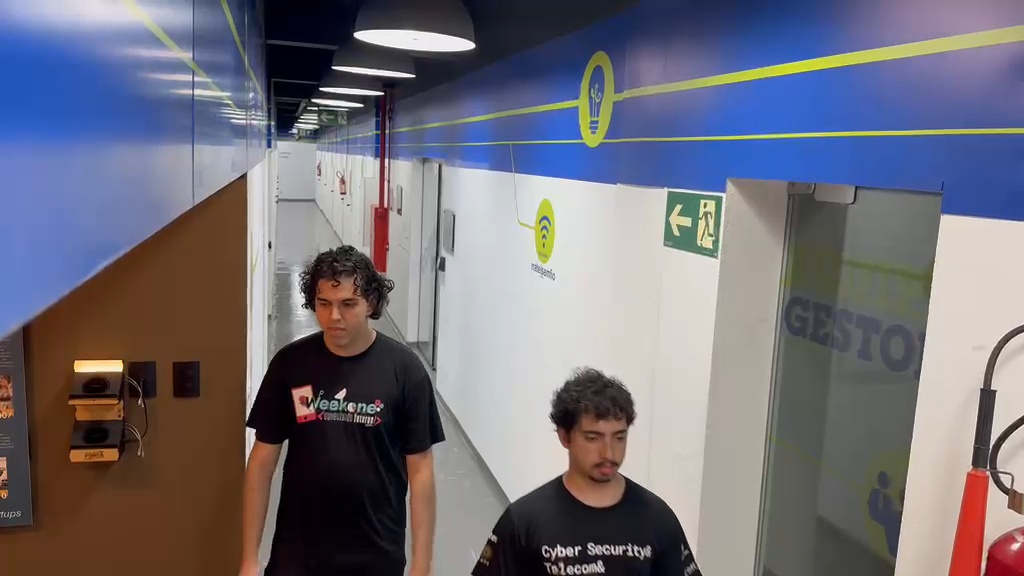person: (242, 244, 443, 573), (473, 367, 701, 574)
